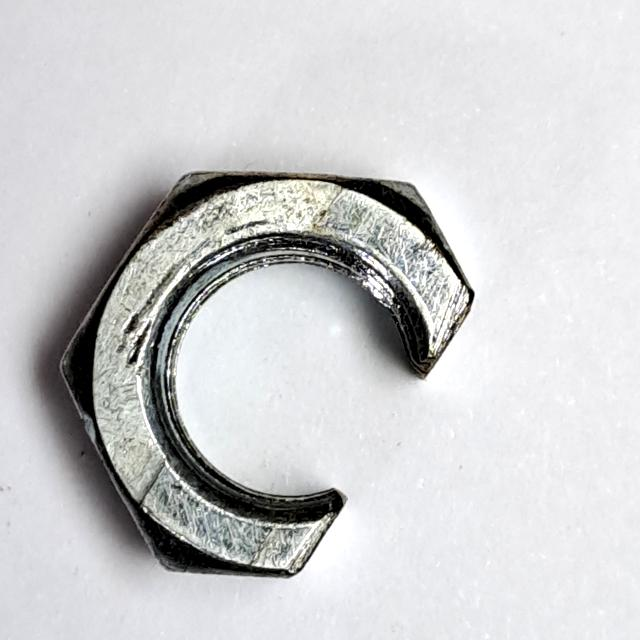Fracture: (49, 154, 496, 590)
